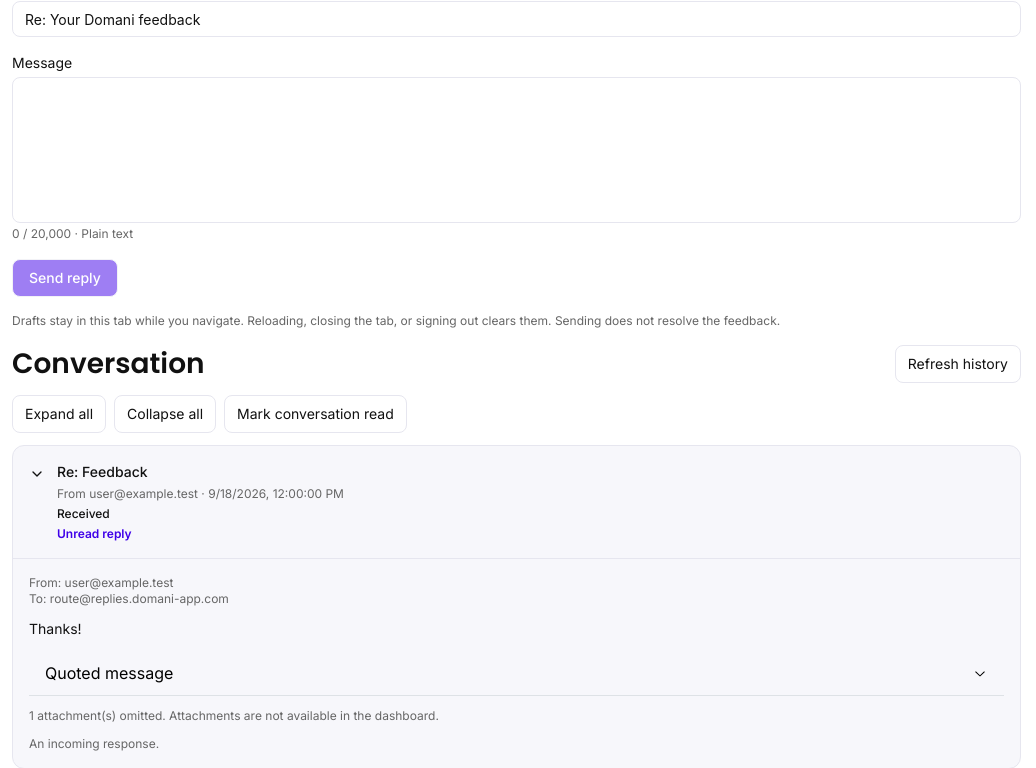
Test: incoming replies › retains unread replies and exposes retry when marking read fails
The image size is (1036, 768).
(page scrolled)
What coordinates should you click on to do the following:
click the button "Mark conversation read"
I would click on:
 (315, 414)
Its box is [224,395,407,433].
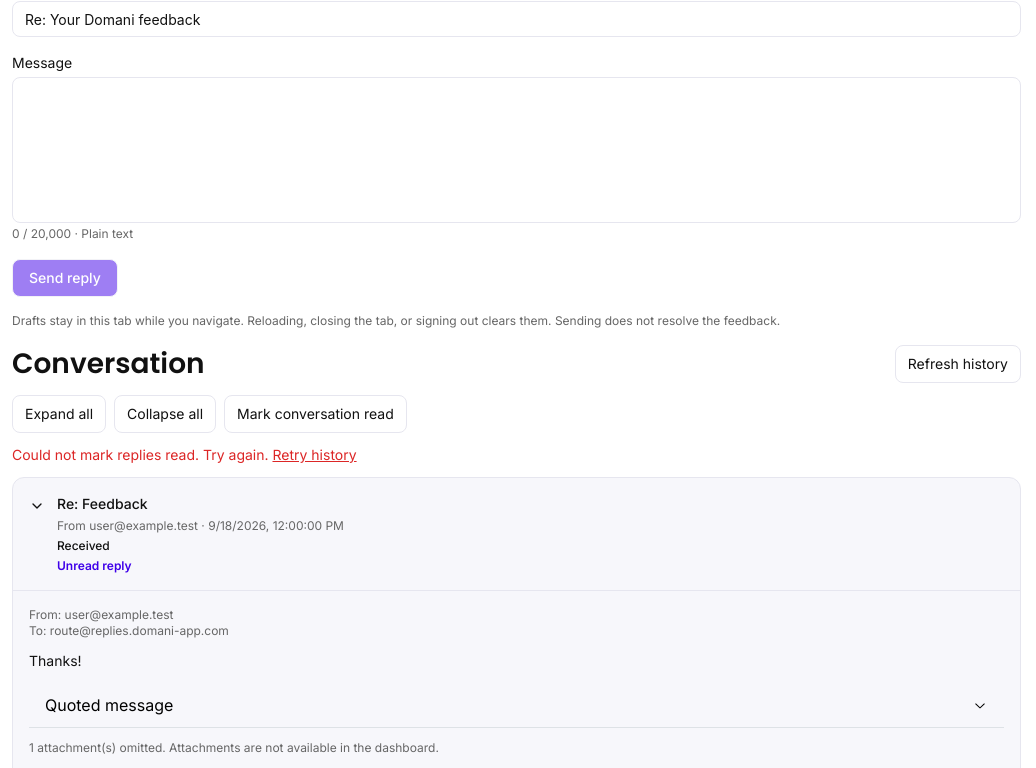
Expected: the text "Unread reply" is shown, [57,558,132,573]
Result: the text "Could not mark replies read" is shown at [12,446,268,463]
